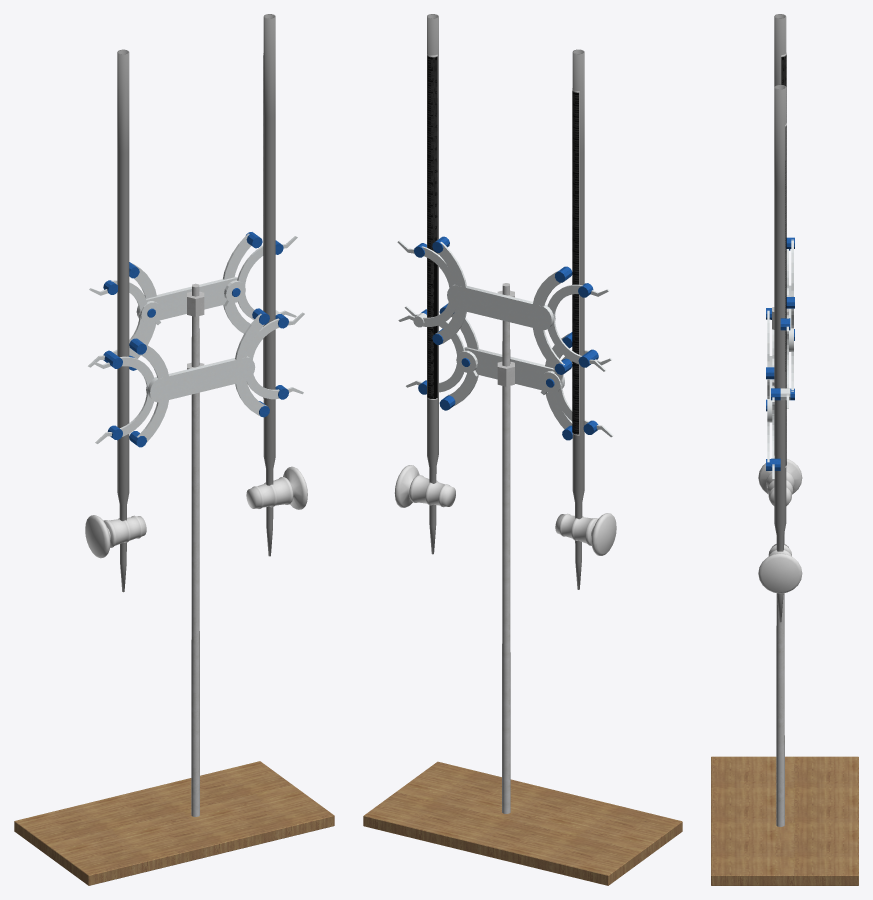
The model's file is SM_酸式滴定管组合.fbx.
3 views of the same model, side by side, from view 1: azimuth 30°, elevation 25°; view 2: azimuth 150°, elevation 25°; view 3: azimuth 270°, elevation 25° (orthographic).
Parts seen in each view (by area): view 1: SM_酸式滴定管组合; view 2: SM_酸式滴定管组合; view 3: SM_酸式滴定管组合.
Boxes of the visible parts, left/top/right/bottom form: SM_酸式滴定管组合: left=14, top=14, right=334, bottom=885; SM_酸式滴定管组合: left=363, top=14, right=682, bottom=885; SM_酸式滴定管组合: left=711, top=14, right=858, bottom=885.
Size of the model in its own units: 0.3441 by 1.05 by 0.1798.
